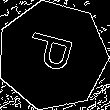P_E: (23, 31, 82, 80)
